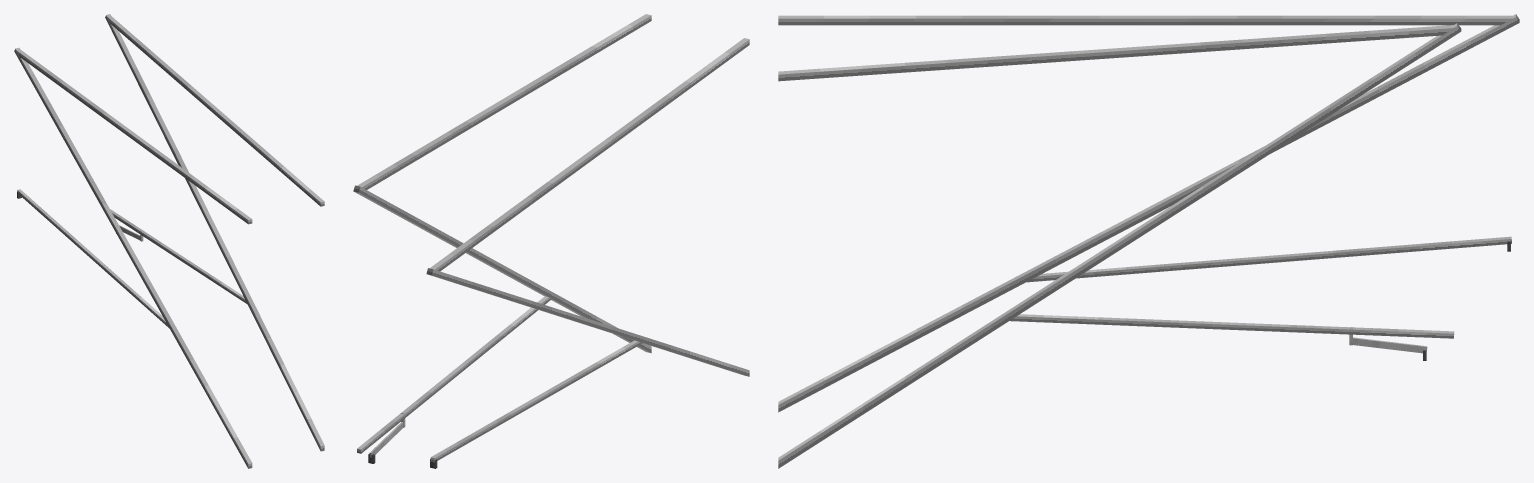
Rendered from cantilever_inner_8px.obj.
3 renders of one model, left to right at view 1: azimuth 30°, elevation 25°; view 2: azimuth 150°, elevation 25°; view 3: azimuth 270°, elevation 25°, orthographic. The views are drawn at different scales.
Parts seen in each view (by area): view 1: bbb00f02-00fe-48ef-8c13-865717bf07f2, be2ea35b-b0bf-43de-b7bd-1968ae24b956, 311d73b5-c95c-4a7e-9b80-dd75dd82e0ab, 5d0dee1d-13cd-4970-b87f-3ab5a55b0ec1, a1f3576e-7751-4aec-a2db-34c1d0bb963e, 8b803be7-6241-4d59-8b18-98c6f4e7382a; view 2: 311d73b5-c95c-4a7e-9b80-dd75dd82e0ab, 5d0dee1d-13cd-4970-b87f-3ab5a55b0ec1, bbb00f02-00fe-48ef-8c13-865717bf07f2, be2ea35b-b0bf-43de-b7bd-1968ae24b956, a1f3576e-7751-4aec-a2db-34c1d0bb963e, 8b803be7-6241-4d59-8b18-98c6f4e7382a; view 3: be2ea35b-b0bf-43de-b7bd-1968ae24b956, 311d73b5-c95c-4a7e-9b80-dd75dd82e0ab, bbb00f02-00fe-48ef-8c13-865717bf07f2, 5d0dee1d-13cd-4970-b87f-3ab5a55b0ec1, a1f3576e-7751-4aec-a2db-34c1d0bb963e, 8b803be7-6241-4d59-8b18-98c6f4e7382a.
Part boxes in pixels (<box>): bbb00f02-00fe-48ef-8c13-865717bf07f2: <box>14,47,252,468</box>; be2ea35b-b0bf-43de-b7bd-1968ae24b956: <box>105,14,324,451</box>; 311d73b5-c95c-4a7e-9b80-dd75dd82e0ab: <box>16,49,252,224</box>; 5d0dee1d-13cd-4970-b87f-3ab5a55b0ec1: <box>107,16,324,206</box>; a1f3576e-7751-4aec-a2db-34c1d0bb963e: <box>17,189,169,328</box>; 8b803be7-6241-4d59-8b18-98c6f4e7382a: <box>110,209,246,303</box>; 311d73b5-c95c-4a7e-9b80-dd75dd82e0ab: <box>430,38,749,271</box>; 5d0dee1d-13cd-4970-b87f-3ab5a55b0ec1: <box>357,14,651,189</box>; bbb00f02-00fe-48ef-8c13-865717bf07f2: <box>426,268,749,376</box>; be2ea35b-b0bf-43de-b7bd-1968ae24b956: <box>353,185,651,353</box>; a1f3576e-7751-4aec-a2db-34c1d0bb963e: <box>430,340,642,462</box>; 8b803be7-6241-4d59-8b18-98c6f4e7382a: <box>357,296,551,453</box>; be2ea35b-b0bf-43de-b7bd-1968ae24b956: <box>778,23,1461,468</box>; 311d73b5-c95c-4a7e-9b80-dd75dd82e0ab: <box>778,15,1512,25</box>; bbb00f02-00fe-48ef-8c13-865717bf07f2: <box>778,14,1519,412</box>; 5d0dee1d-13cd-4970-b87f-3ab5a55b0ec1: <box>778,25,1453,81</box>; a1f3576e-7751-4aec-a2db-34c1d0bb963e: <box>1026,236,1511,282</box>; 8b803be7-6241-4d59-8b18-98c6f4e7382a: <box>1010,314,1454,338</box>.
Size of the model in its own units: 1.19 by 4.16 by 6.31.
